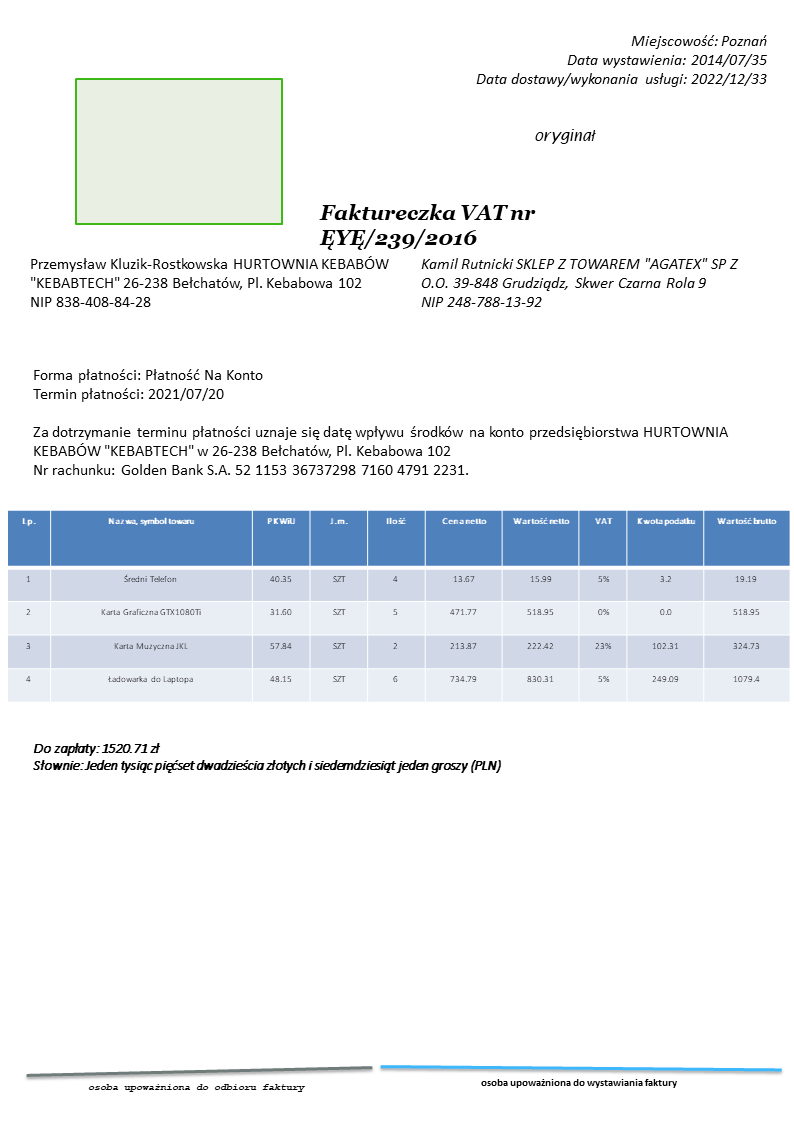Table: (7, 509, 789, 702)
TextBox: (30, 423, 733, 481), (25, 253, 391, 313), (29, 738, 504, 778), (418, 255, 742, 312), (472, 30, 771, 91), (318, 198, 540, 254), (31, 364, 266, 406), (85, 1078, 307, 1096), (478, 1076, 678, 1091), (532, 125, 599, 148)
